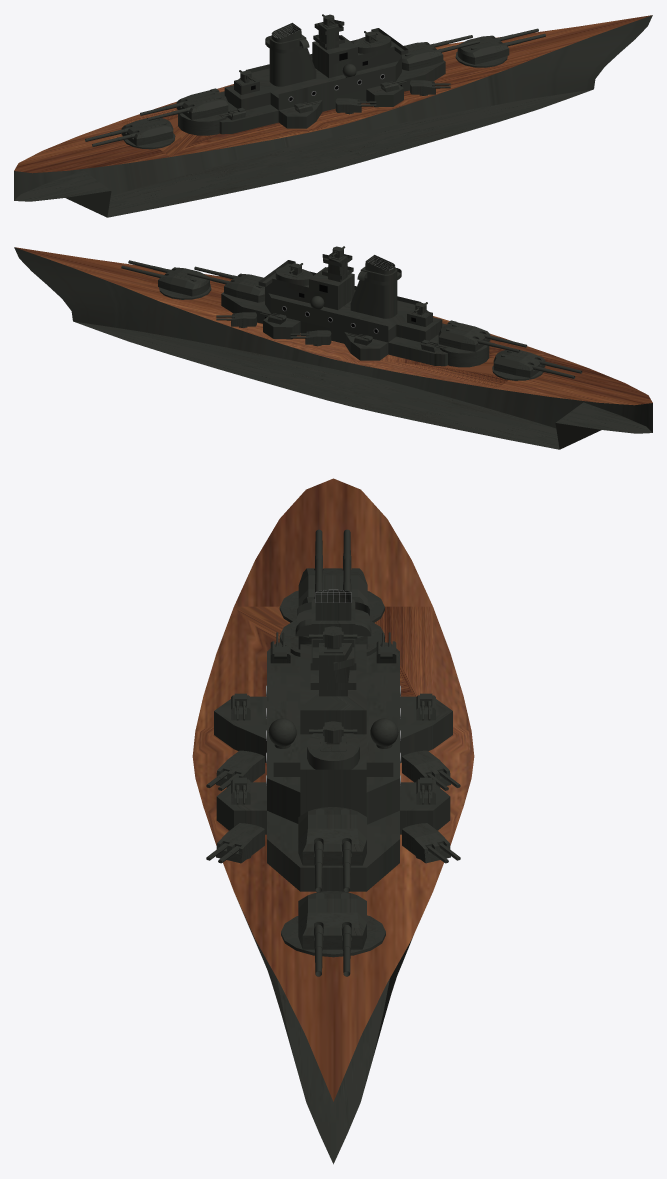
The model's file is cuirasse-lowpoly.glb.
3 views of the same model, one above another, from view 1: azimuth 30°, elevation 25°; view 2: azimuth 150°, elevation 25°; view 3: azimuth 270°, elevation 25° (orthographic). The views are drawn at different scales.
Visible parts, largest first — view 1: Cylinder, Cube.003, Cube.001, Cube.002, Cube, Cylinder.009, Cube.008, Cube.007; view 2: Cylinder, Cube.003, Cube.001, Cube.002, Cube, Cylinder.009, Cube.009, Cube.006; view 3: Cylinder, Cube.001, Cube, Cube.006, Cube.007, Cube.002, Cylinder.001, Cube.008, Cube.009.
Part boxes in pixels (x1,y1,x2,y2): Cylinder: (14, 15, 652, 217); Cube.003: (176, 91, 228, 119); Cube.001: (457, 35, 509, 64); Cube.002: (121, 118, 173, 145); Cube: (402, 42, 443, 70); Cylinder.009: (178, 107, 230, 135); Cube.008: (335, 98, 376, 114); Cube.007: (410, 80, 450, 98); Cylinder: (14, 247, 652, 449); Cube.003: (438, 323, 490, 351); Cube.001: (158, 267, 209, 296); Cube.002: (493, 350, 545, 377); Cube: (224, 273, 264, 302); Cylinder.009: (437, 339, 489, 367); Cube.009: (290, 330, 331, 346); Cube.006: (216, 312, 256, 330); Cylinder: (192, 478, 474, 1164); Cube.001: (298, 891, 366, 949); Cube: (298, 807, 366, 865); Cube.006: (402, 823, 460, 863); Cube.007: (206, 823, 264, 863); Cube.002: (298, 568, 367, 605); Cylinder.001: (281, 915, 385, 957); Cube.008: (206, 750, 264, 790); Cube.009: (402, 750, 460, 790).
Bounding box in the file's own units: 55.74 × 11.44 × 10.64.
Materials: 36 (32 with a texture image).
